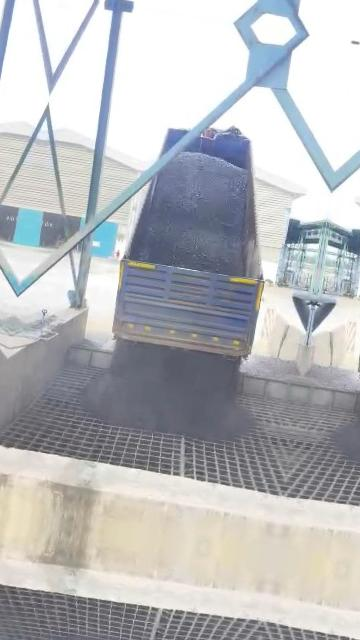gravel: (83, 340, 253, 441), (130, 153, 248, 275), (240, 355, 302, 386)
